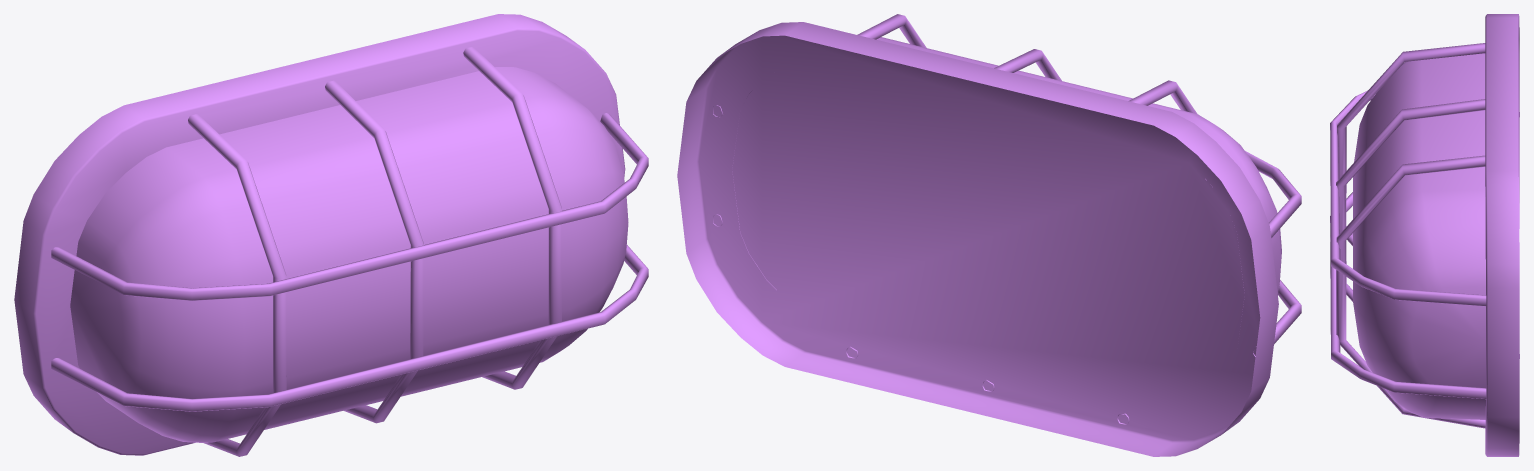
The model's file is GreenLight.FBX.
The picture shows the model from 3 angles, left to right: view 1: azimuth 30°, elevation 25°; view 2: azimuth 150°, elevation 25°; view 3: azimuth 270°, elevation 25°; orthographic projection. The views are drawn at different scales.
Visible parts, largest first — view 1: Bunker Light; view 2: Bunker Light; view 3: Bunker Light.
Part boxes in pixels (<box>): Bunker Light: <box>14,14,648,456</box>; Bunker Light: <box>677,14,1301,456</box>; Bunker Light: <box>1330,14,1519,456</box>.
Bounding box in the file's own units: 56.5 × 30.69 × 18.71.
